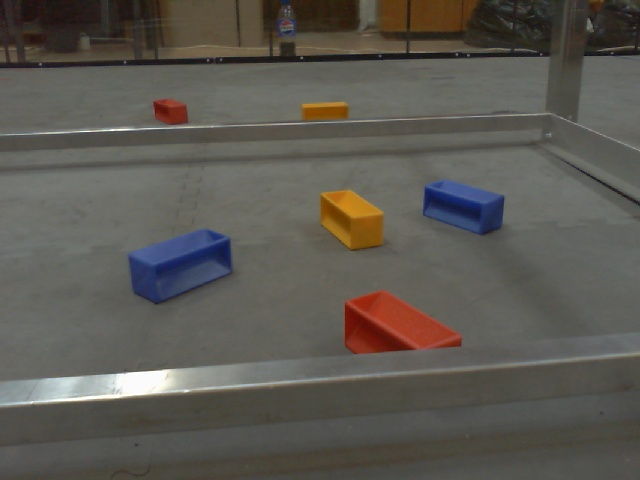BlueSample: (126, 228, 238, 306), (422, 178, 506, 237)
RedSample: (339, 289, 465, 359), (152, 96, 190, 127)
YellowSample: (318, 188, 386, 251), (300, 97, 350, 122)
